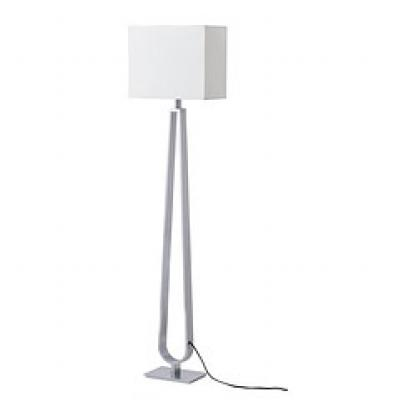Lamp: (101, 15, 253, 398)
